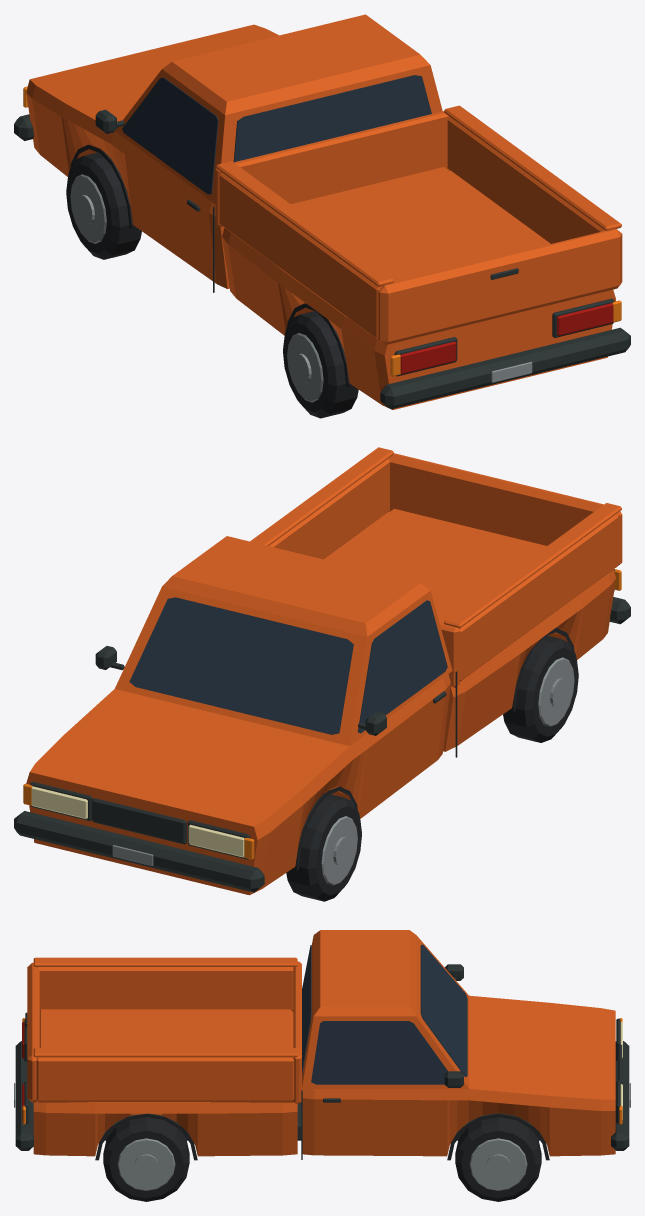
Rendered from 06_Pickup.fbx.
The picture shows the model from 3 angles, top to bottom: view 1: azimuth 30°, elevation 25°; view 2: azimuth 150°, elevation 25°; view 3: azimuth 270°, elevation 25°; orthographic projection. The views are drawn at different scales.
Parts seen in each view (by area): view 1: Continuous body with open wheel arches.005, Raked cabin with chamfered roof.005, Recessed cargo bed floor, Tailgate, Continuous body with open wheel arches.006, Bed forward wall, Cargo bed side, Framed rear windshield.005, Cargo bed side.001, Side glass -1 pane 0.005, Moulded bumper.011, WheelFL_ShapedSidewall.005 (+7 smaller); view 2: Continuous body with open wheel arches.005, Raked cabin with chamfered roof.005, Framed opaque windshield.005, Recessed cargo bed floor, Tailgate, Cargo bed side, Continuous body with open wheel arches.006, Side glass -1 pane 0.005, Moulded bumper.010, Cargo bed side.001, WheelFL_ShapedSidewall.005, WheelRL_ShapedSidewall.005 (+8 smaller); view 3: Continuous body with open wheel arches.005, Raked cabin with chamfered roof.005, Cargo bed side.001, Continuous body with open wheel arches.006, Cargo bed side, Recessed cargo bed floor, Side glass 1 pane 0.005, Framed opaque windshield.005, WheelFR_ShapedSidewall.005, WheelRR_ShapedSidewall.005, Cargo bed rim.001, Cargo bed rim (+12 smaller).
Part boxes in pixels (<box>): Continuous body with open wheel arches.005: <box>26,24,278,288</box>; Raked cabin with chamfered roof.005: <box>115,14,442,204</box>; Recessed cargo bed floor: <box>291,167,549,282</box>; Tailgate: <box>378,228,622,344</box>; Continuous body with open wheel arches.006: <box>222,170,615,409</box>; Bed forward wall: <box>215,111,449,226</box>; Cargo bed side: <box>219,172,382,340</box>; Framed rear windshield.005: <box>233,75,431,162</box>; Cargo bed side.001: <box>447,117,605,243</box>; Side glass -1 pane 0.005: <box>122,77,218,194</box>; Moulded bumper.011: <box>380,327,630,409</box>; WheelFL_ShapedSidewall.005: <box>66,151,141,259</box>; Continuous body with open wheel arches.005: <box>26,674,450,895</box>; Raked cabin with chamfered roof.005: <box>115,536,452,745</box>; Framed opaque windshield.005: <box>129,597,353,734</box>; Recessed cargo bed floor: <box>325,508,546,623</box>; Tailgate: <box>388,453,622,567</box>; Cargo bed side: <box>459,514,618,681</box>; Continuous body with open wheel arches.006: <box>323,512,615,751</box>; Side glass -1 pane 0.005: <box>357,600,447,733</box>; Moulded bumper.010: <box>14,811,264,892</box>; Cargo bed side.001: <box>269,458,389,559</box>; WheelFL_ShapedSidewall.005: <box>286,793,361,901</box>; WheelRL_ShapedSidewall.005: <box>503,635,578,742</box>; Continuous body with open wheel arches.005: <box>302,995,615,1156</box>; Raked cabin with chamfered roof.005: <box>302,930,468,1088</box>; Cargo bed side.001: <box>36,1057,294,1102</box>; Continuous body with open wheel arches.006: <box>33,1012,297,1156</box>; Cargo bed side: <box>37,967,293,1011</box>; Recessed cargo bed floor: <box>39,1009,292,1047</box>; Side glass 1 pane 0.005: <box>311,1021,447,1084</box>; Framed opaque windshield.005: <box>420,944,467,1077</box>; WheelFR_ShapedSidewall.005: <box>455,1117,541,1201</box>; WheelRR_ShapedSidewall.005: <box>103,1117,189,1201</box>; Cargo bed rim.001: <box>33,1048,297,1057</box>; Cargo bed rim: <box>33,957,297,966</box>.
Size of the model in its own units: 215 by 166 by 500.
